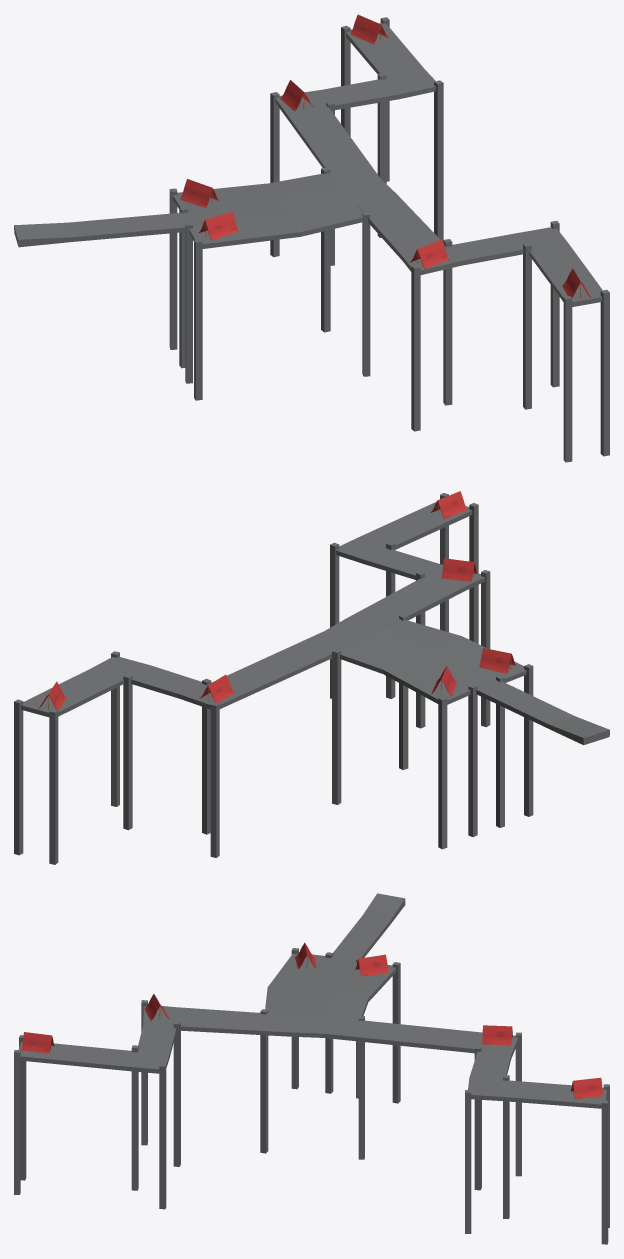
Rendered from village1.glb.
3 renders of one model, top to bottom at view 1: azimuth 30°, elevation 25°; view 2: azimuth 150°, elevation 25°; view 3: azimuth 270°, elevation 25°, orthographic. The views are drawn at different scales.
Parts seen in each view (by area): view 1: Plane.002, Cube.018, Plane.005; view 2: Plane.002, Cube.018, Plane.005; view 3: Plane.002, Cube.018, Plane.005.
Part boxes in pixels (x1,y1,x2,y2): Plane.002: (14,23,602,306); Cube.018: (169,17,609,462); Plane.005: (180,14,591,298); Plane.002: (21,502,609,745); Cube.018: (14,493,533,864); Plane.005: (38,491,516,710); Plane.002: (18,893,606,1108); Cube.018: (14,948,609,1244); Plane.005: (21,942,603,1098).
Size of the model in its own units: 21.93 by 7.36 by 25.86.
